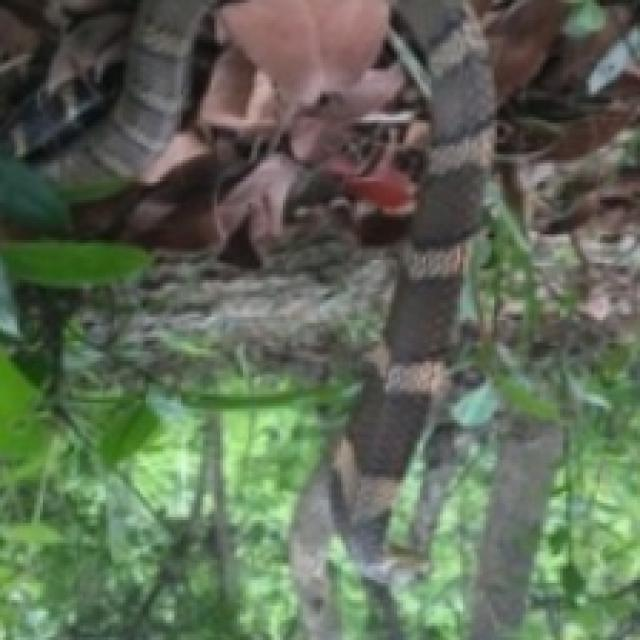king cobra: (0, 0, 494, 637), (291, 0, 494, 637), (3, 246, 154, 291)
